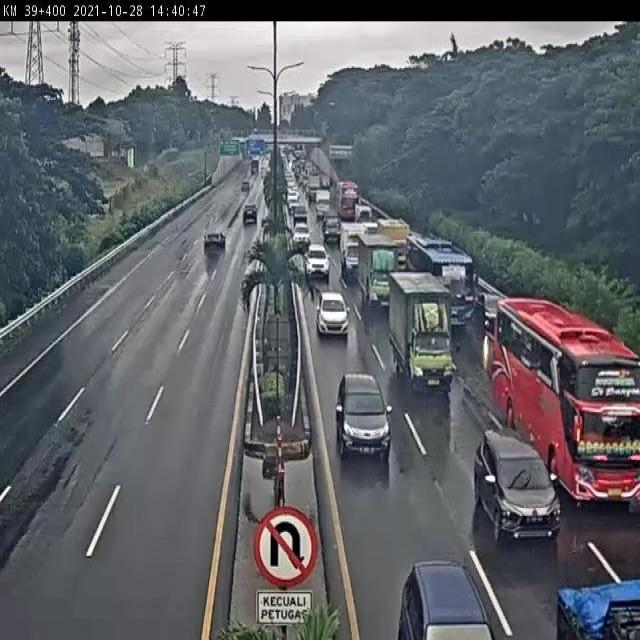bus-l-: (495, 297, 640, 503), (406, 235, 476, 328)
car: (474, 430, 563, 542), (337, 375, 393, 460), (316, 292, 351, 339), (477, 289, 506, 335), (304, 242, 331, 278)
mid truck: (203, 228, 227, 253)
truck-m-: (390, 273, 455, 392), (359, 230, 402, 314), (340, 222, 376, 286)
